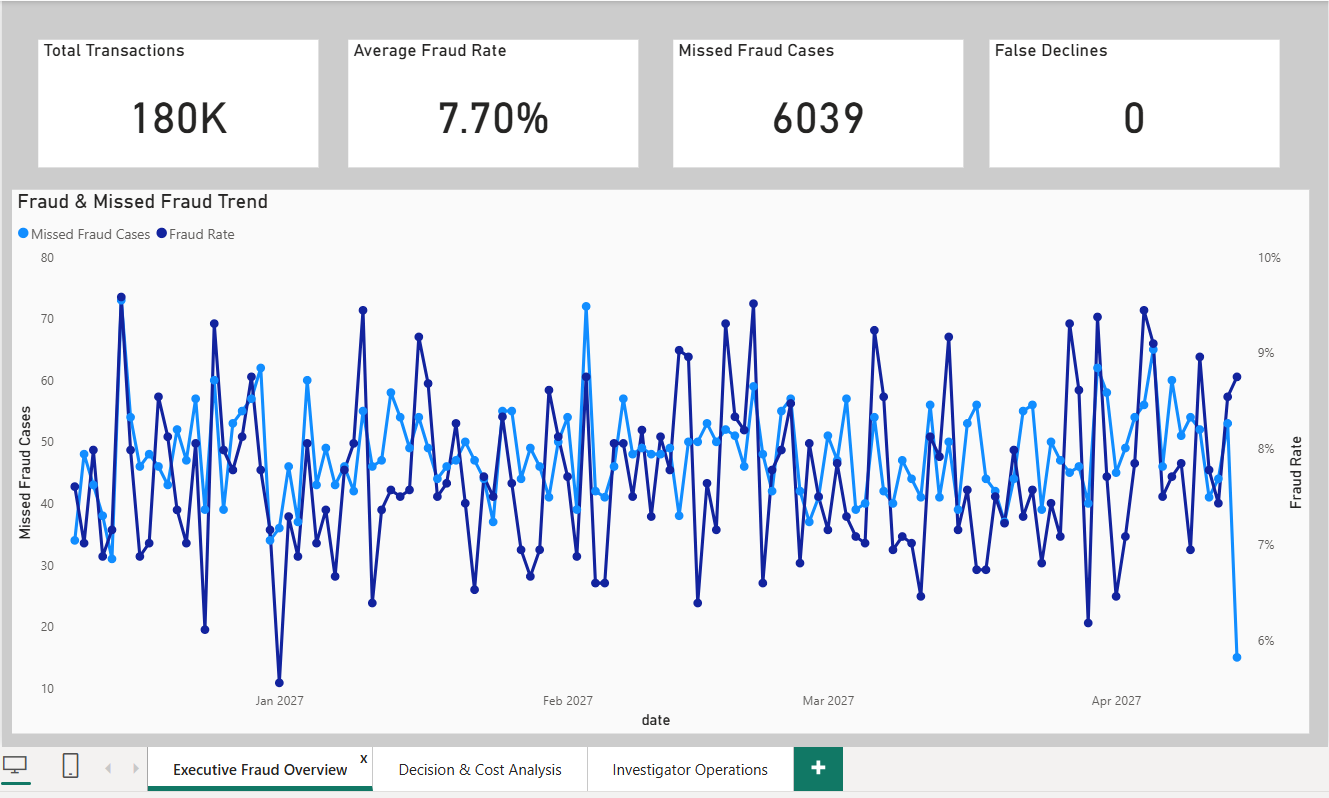

The dashboard page shown, as its layout file describes it:
{"tool":"powerbi","page":{"name":"Executive Fraud Overview","canvas":[1280,720],"ordinal":0},"visuals":[{"type":"card","title":"Total Transactions","fields":{"Values":["Sum(daily_kpis.transactions)"]},"box":[35,37.4,270.2,123.1],"z":0},{"type":"card","title":"Average Fraud Rate","fields":{"Values":["Avg(daily_kpis.fraud_rate)"]},"box":[334.2,37.4,279.9,123.1],"z":1000},{"type":"card","title":"Missed Fraud Cases","fields":{"Values":["Sum(daily_kpis.missed_fraud)"]},"box":[647.9,37.4,279.9,123.1],"z":2000},{"type":"card","title":"False Declines","fields":{"Values":["Sum(daily_kpis.false_declines)"]},"box":[953.1,37.4,279.9,123.1],"z":3000},{"type":"lineChart","title":"Fraud & Missed Fraud Trend","fields":{"Y":["Sum(daily_kpis.missed_fraud)"],"Category":["daily_kpis.date"],"Y2":["Avg(daily_kpis.fraud_rate)"]},"box":[9.7,182.2,1252.3,524.8],"z":4000}]}

Visuals, with their boxes on the page's 1280x720 design canvas (x1, y1, x2, y2). These are canvas units, not pixel positions in the 1329x798 screenshot, which may show the page scaled, cropped or inside an application window:
"Total Transactions" card: region(35, 37, 305, 160)
"Average Fraud Rate" card: region(334, 37, 614, 160)
"Missed Fraud Cases" card: region(648, 37, 928, 160)
"False Declines" card: region(953, 37, 1233, 160)
"Fraud & Missed Fraud Trend" lineChart: region(10, 182, 1262, 707)
